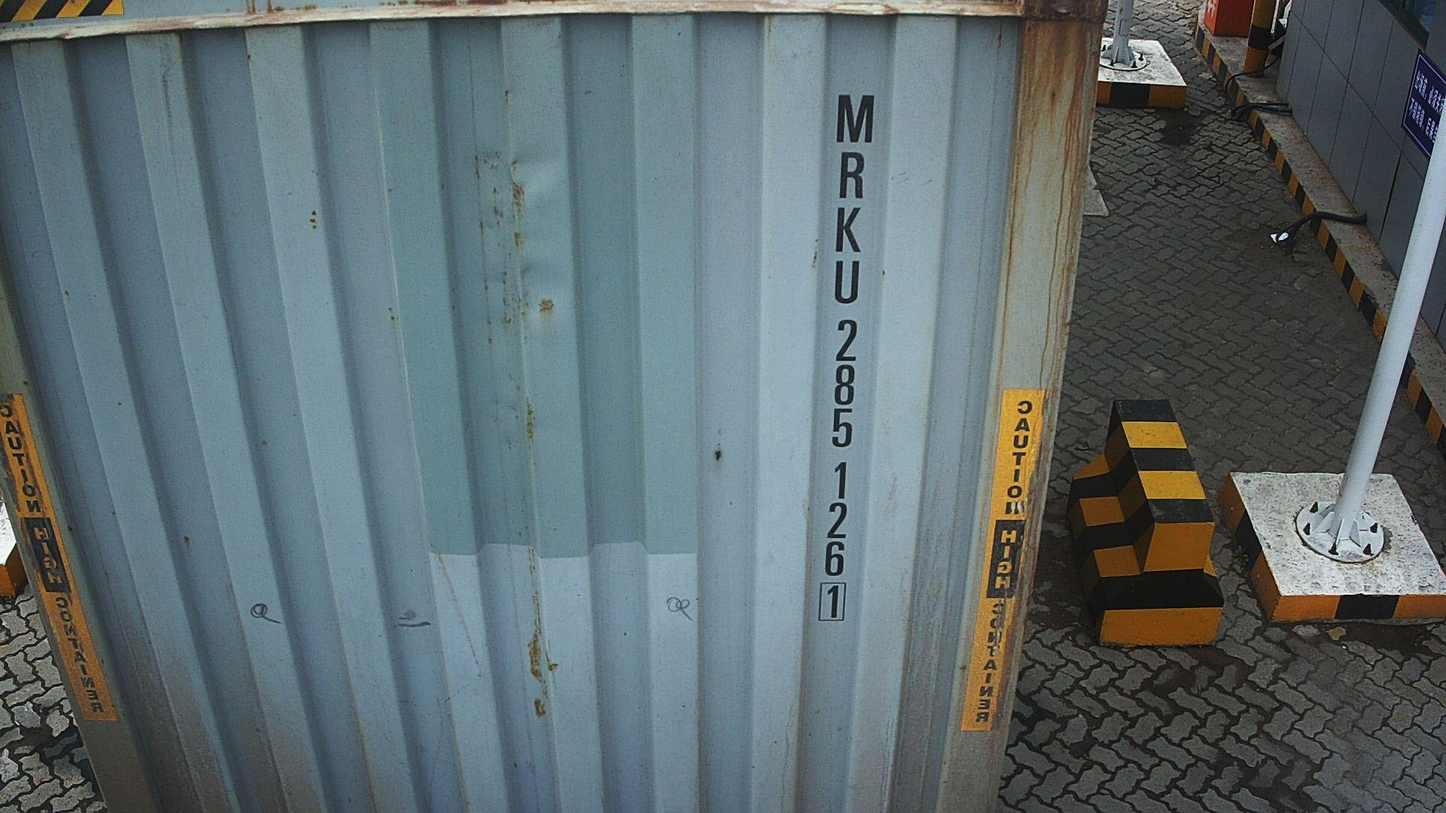container-numbers: (813, 84, 883, 626)
